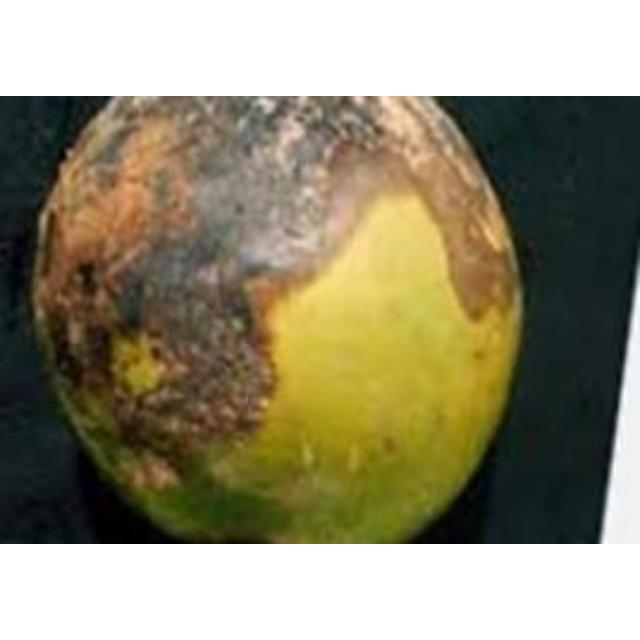damaged: (31, 96, 521, 543)
